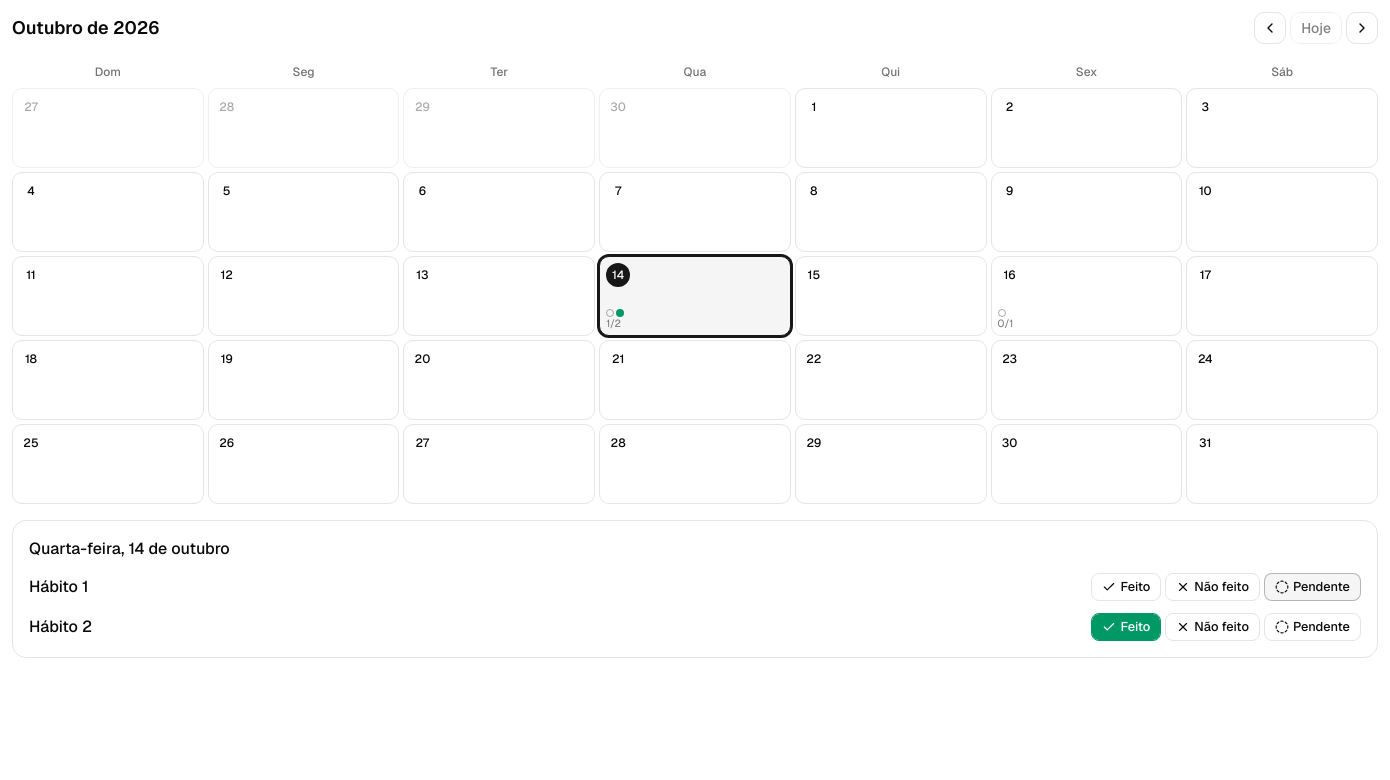
Test: HabitCalendar › goes to the previous month and back to today with the Hoje button
Click the button named "Mês anterior" at (1270, 28), box [1254,12,1286,44]
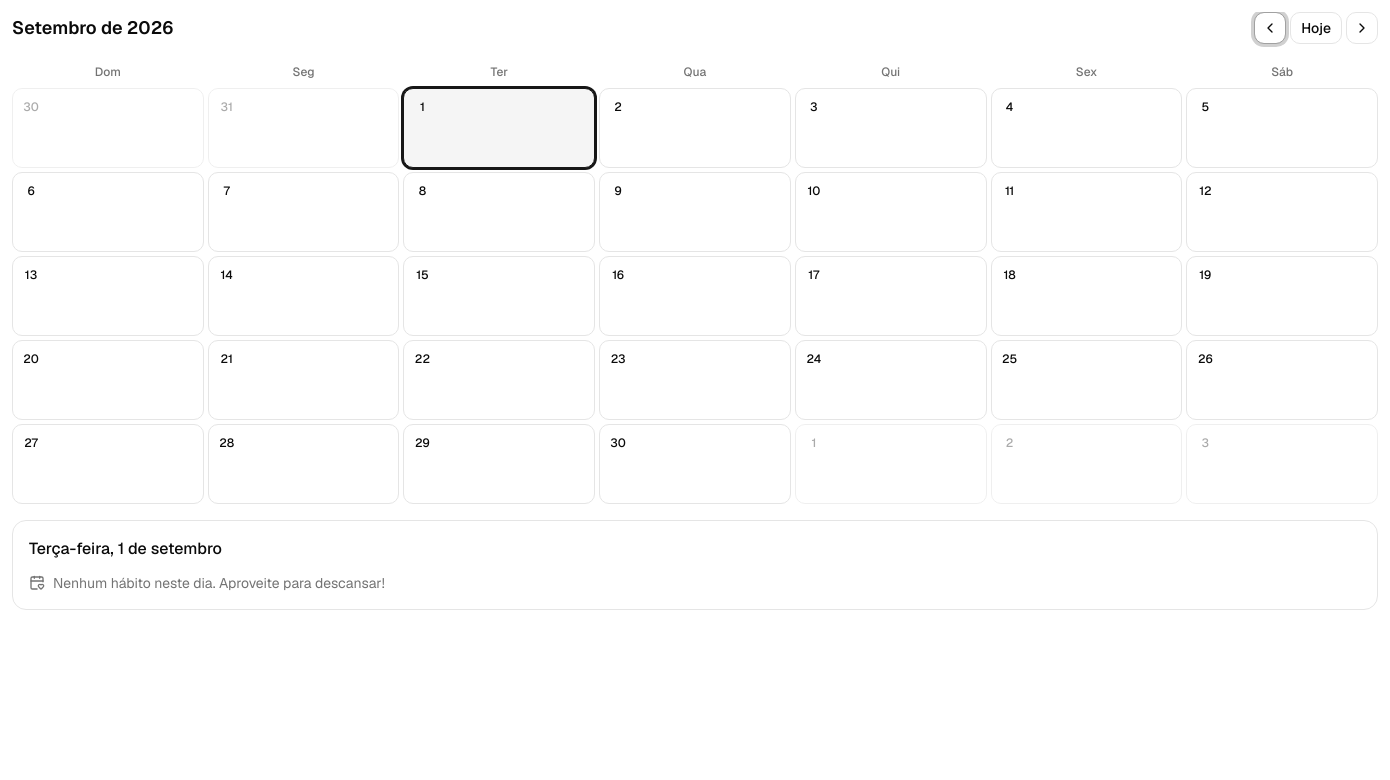
Expected: the heading "setembro de 2026" is shown, [12,14,173,42]
Expected: the text "Nenhum hábito neste dia. Aproveite para descansar!" is shown, [29,574,385,592]
Click the button "Hoje" at (1316, 28), box [1290,12,1342,44]
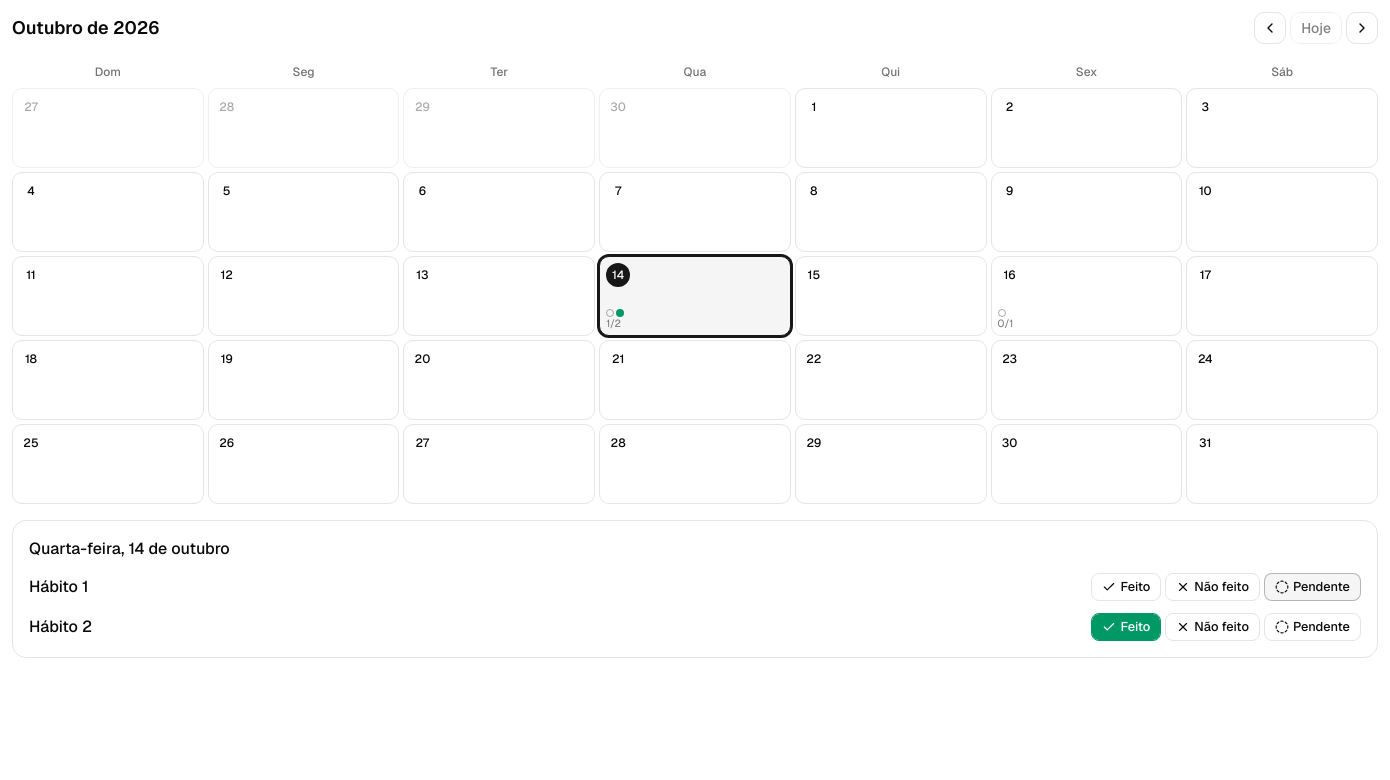
Expected: the heading "outubro de 2026" is shown, [12,14,159,42]
Expected: the heading "quarta-feira, 14 de outubro" is shown, [29,538,230,559]
Expected: the button "Hoje" is disabled, [1290,12,1342,44]
